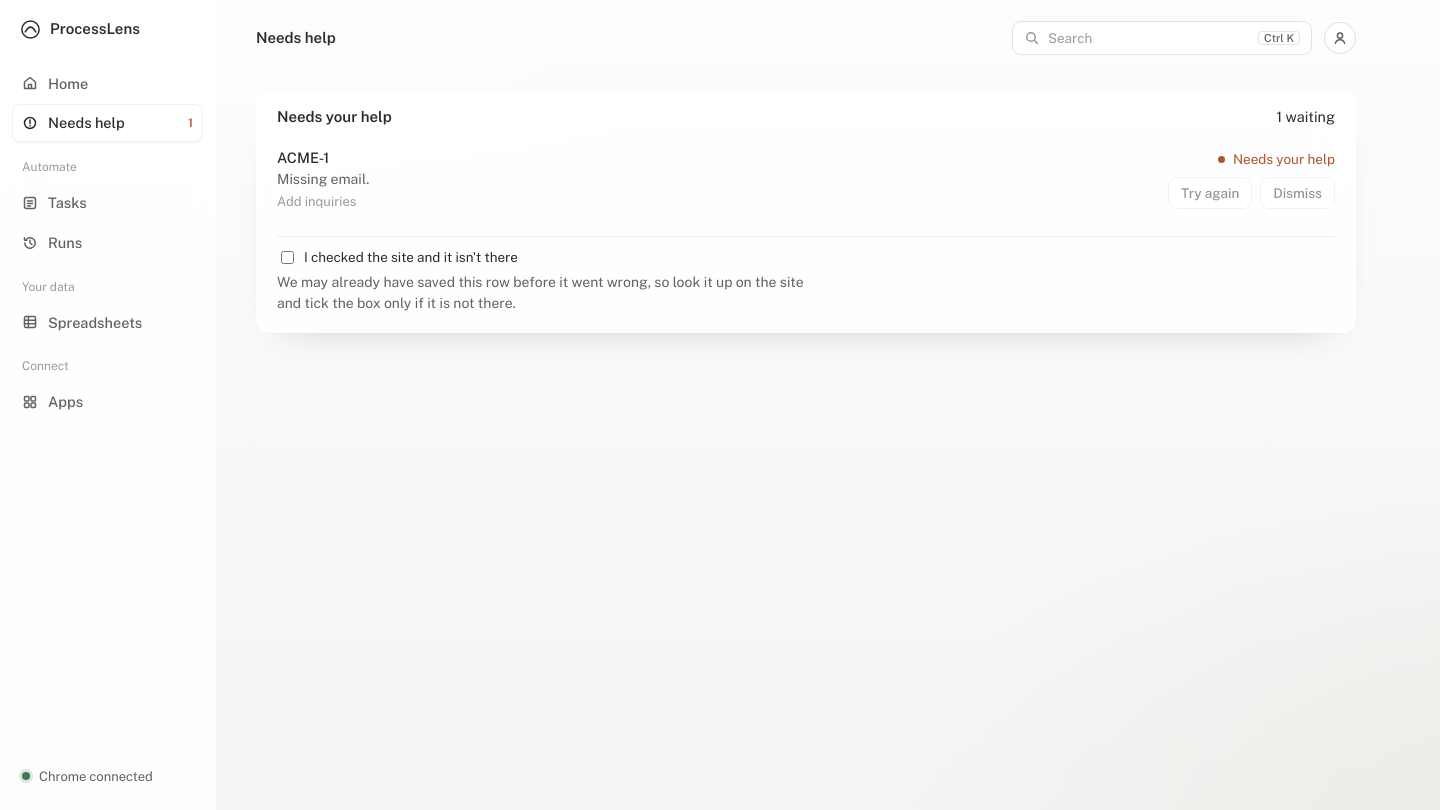
Scenario: the destination check gates a commit-attempted row on the page › disables both buttons until the unticked box is ticked, and again once it is cleared
Expected: the label with class "destination-check-label" reads "I checked the site and it isn't there", [304,249,518,265]
Expected: the element with class "destination-check-why" does not show ""
Click the checkbox with class "destination-check-box" at (288, 257), box [281,251,294,264]
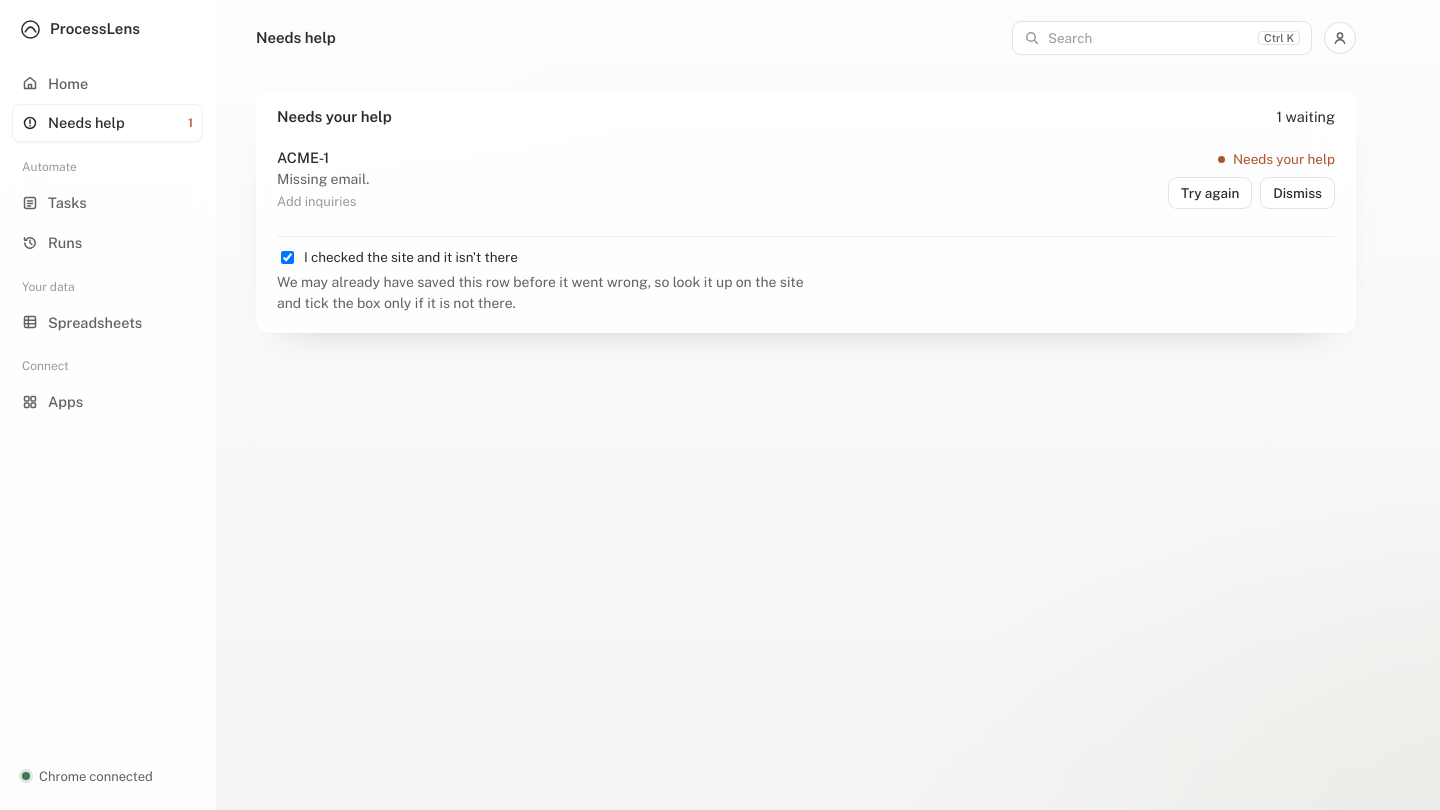
Now the checkbox with class "destination-check-box" is checked
Now the button with class "record-requeue" is enabled, box [1168,177,1252,209]
Now the button with class "record-dismiss" is enabled, box [1260,177,1335,209]
Click the checkbox with class "destination-check-box" at (288, 257), box [281,251,294,264]
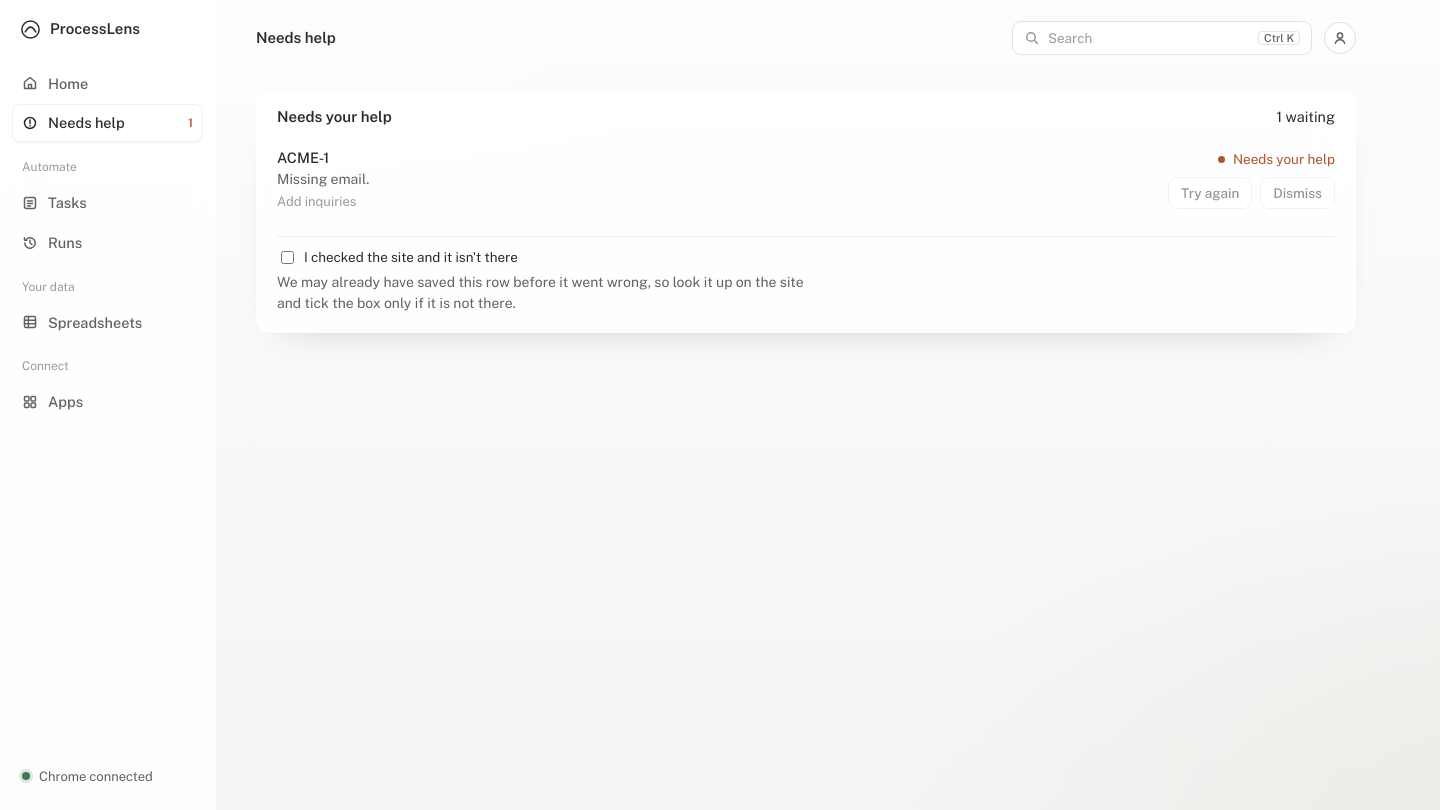
Now the button with class "record-requeue" is disabled, box [1168,177,1252,209]
Now the button with class "record-dismiss" is disabled, box [1260,177,1335,209]
